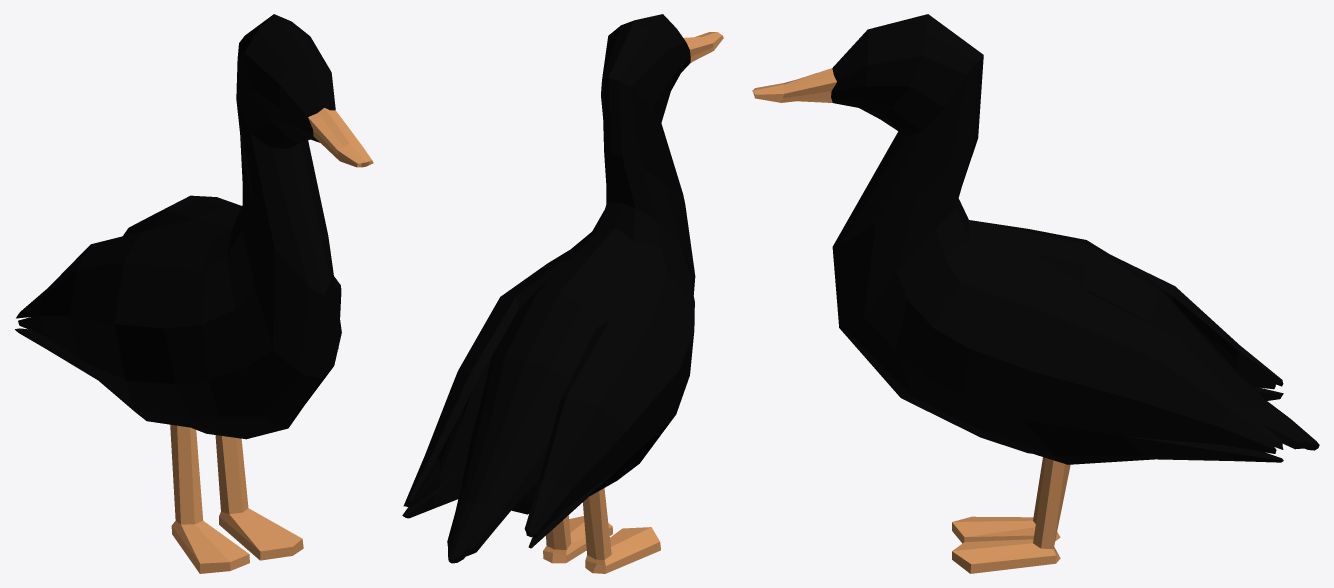
File: Duck.glb
3 views of the same model, side by side, from view 1: azimuth 30°, elevation 25°; view 2: azimuth 150°, elevation 25°; view 3: azimuth 270°, elevation 25° (orthographic). The views are drawn at different scales.
Visible parts, largest first — view 1: 03duckFinal; view 2: 03duckFinal; view 3: 03duckFinal.
Part boxes in pixels (x1,y1,x2,y2): 03duckFinal: (15, 14, 373, 573); 03duckFinal: (402, 14, 723, 573); 03duckFinal: (752, 14, 1319, 573).
Size of the model in its own units: 0.2029 by 0.5174 by 0.4966.
Materials: 1 (1 with a texture image).
